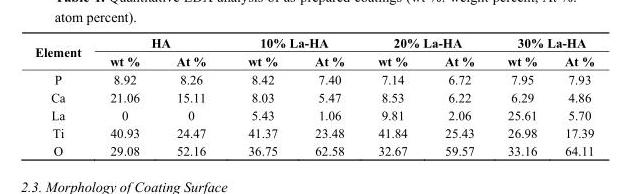table: (34, 35, 594, 157)
table column: (157, 35, 226, 157), (226, 35, 295, 157), (295, 35, 360, 157), (360, 35, 425, 157), (425, 35, 490, 157), (94, 35, 157, 157), (34, 35, 94, 157), (490, 35, 550, 157), (550, 35, 594, 157)
table column header: (34, 35, 594, 69)
table row: (34, 69, 594, 88), (34, 51, 594, 69), (34, 105, 594, 123), (34, 123, 594, 141), (34, 88, 594, 105), (34, 35, 594, 51), (34, 141, 594, 157)
table spanning cell: (226, 35, 360, 51), (94, 35, 226, 51), (360, 35, 490, 51), (34, 35, 94, 69), (490, 35, 594, 51)
